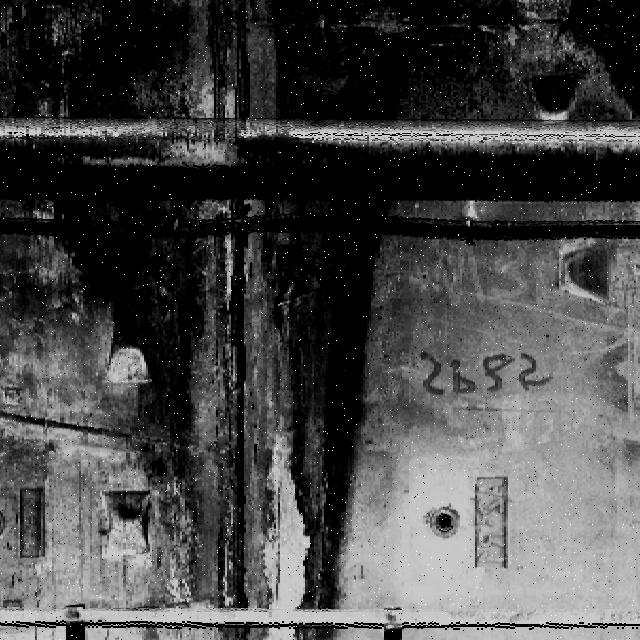leakage: (33, 199, 405, 640), (6, 1, 638, 124)
